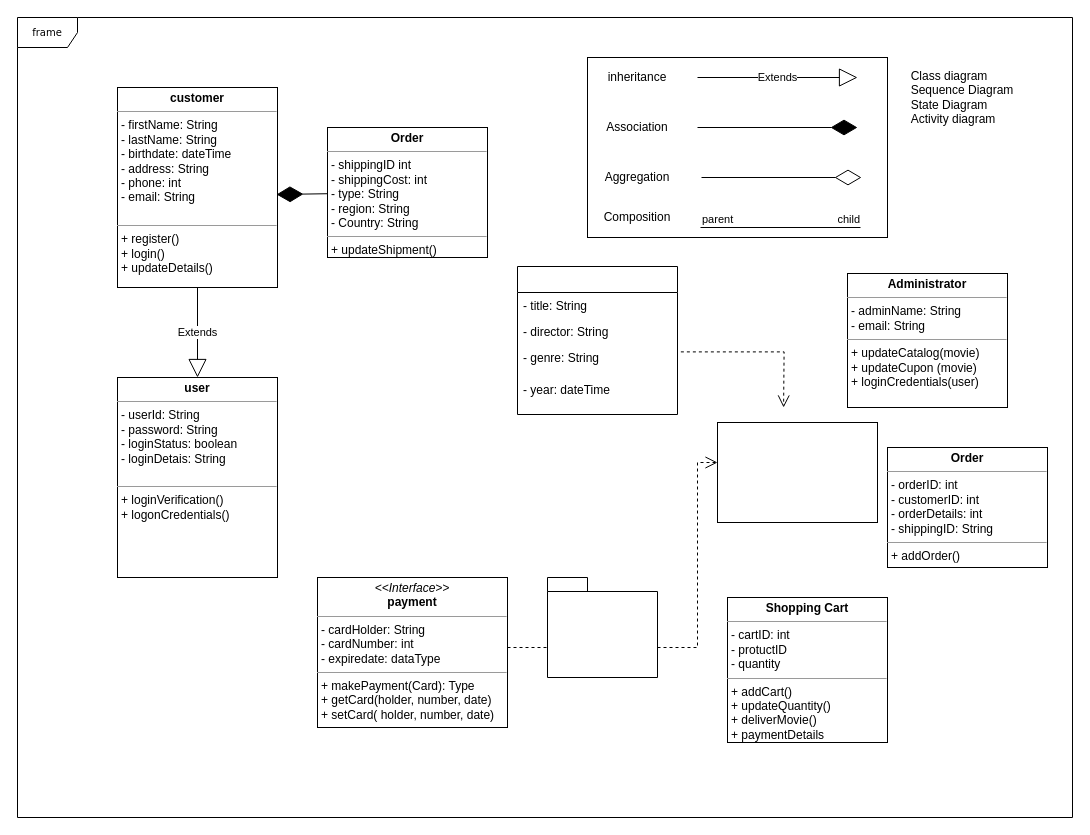
Image size: 1090x835. Some labels were removed from this diagram. The shapes that lost their labels are listed below. From the top down, each one's box as (x1, y1, x2, y2) in pixels, then its label:
(516, 266, 678, 414): movie
(716, 422, 878, 522): email - to: String - description: String + sendEmail(to,description)
(546, 576, 658, 678): API payment paypal googlePay mastercard visa
